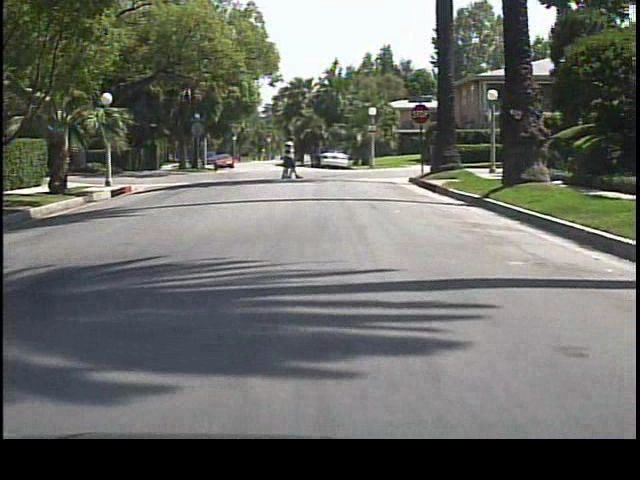person: (278, 136, 300, 183)
